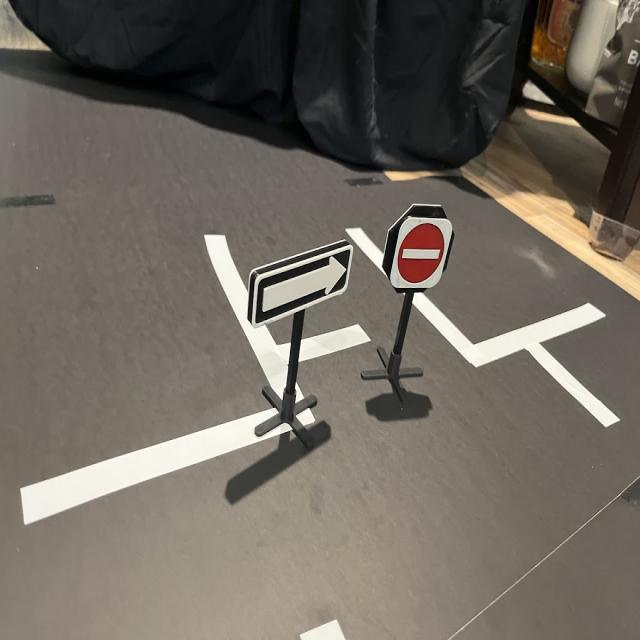sign_noentry: (386, 218, 458, 291)
sign_oneway_right: (245, 231, 357, 332)
